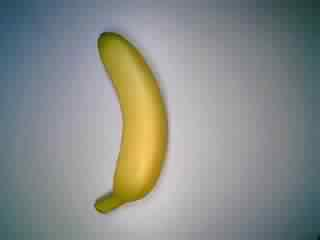banana: (85, 27, 178, 219)
